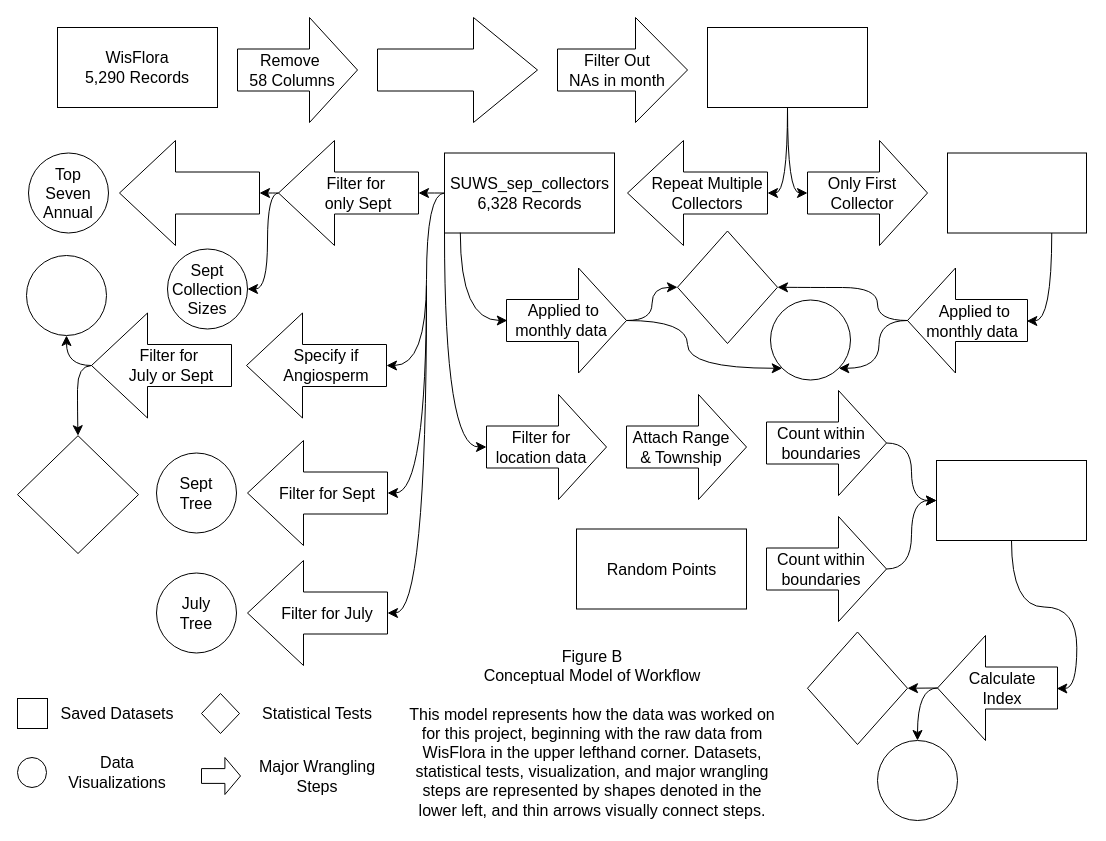
This 1106x841 diagram has some shape labels left out. Each missing label, with the centre of its shape:
By Month Totals: point (810, 339)
Combined Count Data: point (1011, 500)
Filter for Top Seven: point (189, 193)
Hartigan's Dip Test: point (727, 287)
Index Maps: point (917, 780)
July vs. Sept with Angio: point (66, 295)
Kadmon Index: point (857, 687)
Remove Duplicate Records: point (457, 69)
SUWS_clean 5,099 Records: point (787, 67)
SUWS_primary 5,099 Records: point (1016, 192)
Wilcoxon Signed Rank Test: point (77, 494)
